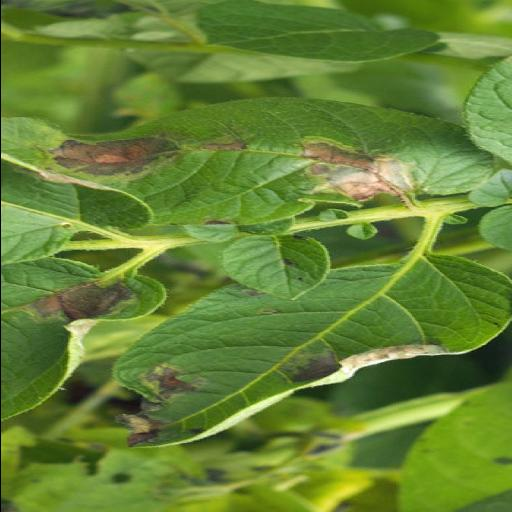disease_tomato: (100, 254, 510, 458), (0, 92, 499, 230), (0, 254, 166, 425)
